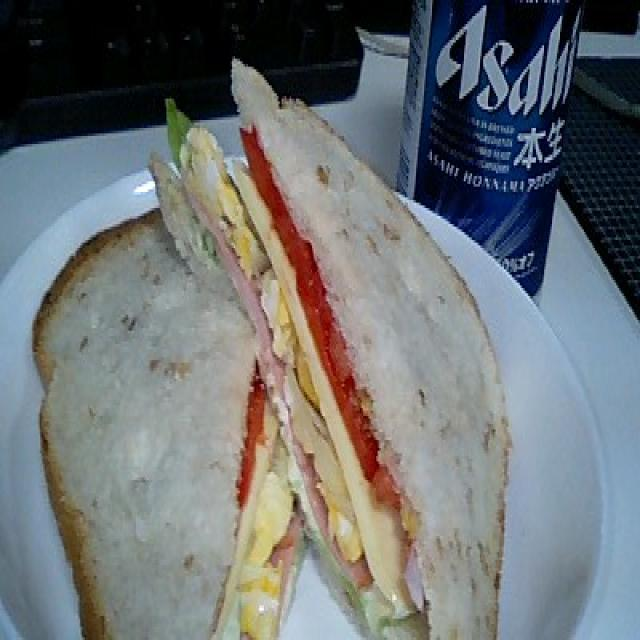三明治: (37, 53, 504, 640)
